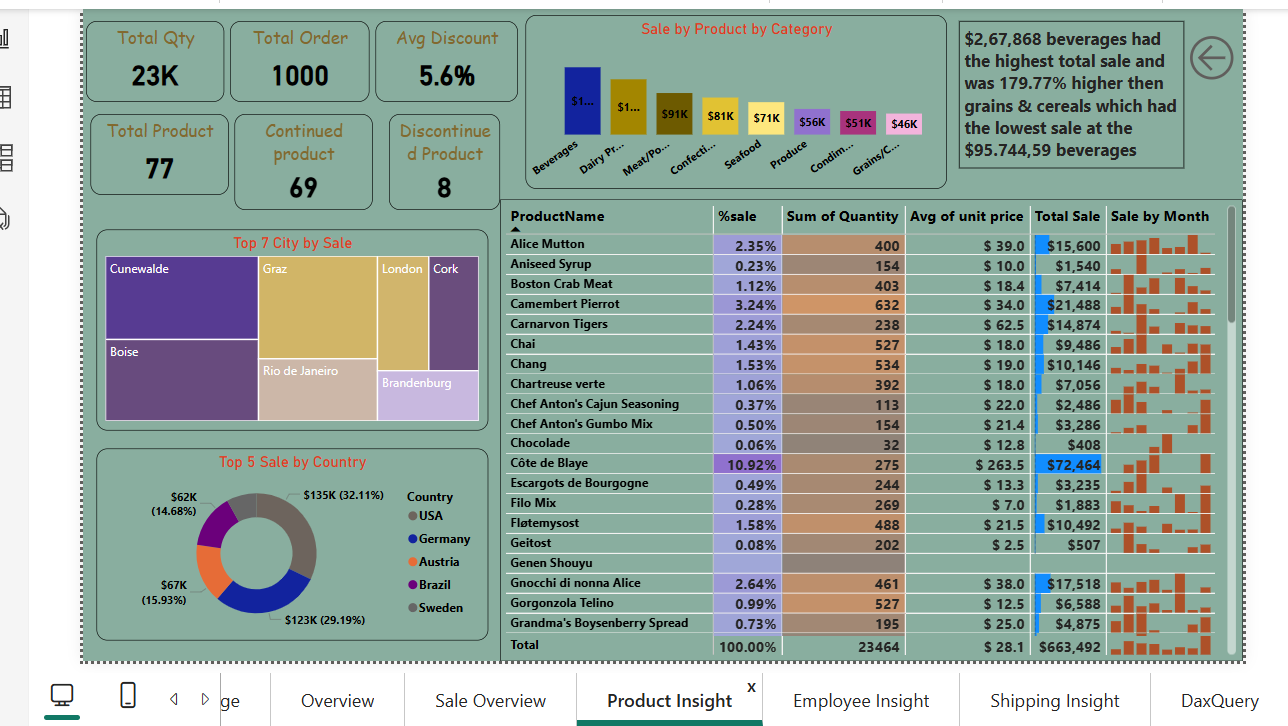

The page's visual inventory and layout, read from the dashboard file:
{"tool":"powerbi","page":{"name":"Product Insight","canvas":[1280,720],"ordinal":3},"visuals":[{"type":"card","title":"Total Qty","fields":{"Values":["Sum(power_bi orders.Quantity)"]},"box":[3.3,13.3,152.4,89.4],"z":0},{"type":"card","title":"Total Order","fields":{"Values":["power_bi orders.Total Orders"]},"box":[162.3,13.3,154.1,89.4],"z":1000},{"type":"card","title":"Avg Discount","fields":{"Values":["power_bi orders.Avg of Discount"]},"box":[323,13.3,157.4,89.4],"z":2000},{"type":"card","title":"Total Product","fields":{"Values":["power_bi products.Total Product"]},"box":[8.3,116,152.4,89.4],"z":3000},{"type":"columnChart","title":"Sale by Product by Category","fields":{"Category":["power_bi categories.CategoryName"],"Y":["Sum(power_bi orders.Total_Amount)"]},"box":[488.7,6.6,465.5,192.2],"z":4000},{"type":"pivotTable","fields":{"Rows":["power_bi products.ProductName"],"Values":["power_bi orders.%sale","Sum(power_bi orders.Quantity)","power_bi orders.Avg of unit price","Sum(power_bi orders.Total_Amount)","SparklineData(Sum(power_bi orders.Total_Amount)_[power_bi calendar.Month Name])"]},"box":[460.5,210.4,820,510.2],"z":5000},{"type":"donutChart","title":"Top 5 Sale by Country","fields":{"Category":["power_bi customers.Country"],"Y":["Sum(power_bi orders.Total_Amount)"]},"box":[14.9,485.3,432.3,212],"z":6000},{"type":"treemap","title":"Top 7 City by Sale","fields":{"Group":["power_bi customers.City"],"Values":["Sum(power_bi orders.Total_Amount)"]},"box":[14.9,243.5,432.3,222],"z":7000},{"type":"card","title":"Discontinued Product","fields":{"Values":["power_bi products.Count Product"]},"box":[337.9,116,122.6,106],"z":8000},{"type":"card","title":"Continued product","fields":{"Values":["power_bi products.Continued"]},"box":[167.3,116,152.4,106],"z":9000},{"type":"textbox","box":[967.4,13.3,248.5,162.3],"z":10000},{"type":"actionButton","box":[1215.9,13.3,61.3,81.2],"z":11000}]}

Visuals, with their boxes on the page's 1280x720 design canvas (x1, y1, x2, y2). These are canvas units, not pixel positions in the 1288x726 screenshot, which may show the page scaled, cropped or inside an application window:
"Total Qty" card: BBox(3, 13, 156, 103)
"Total Order" card: BBox(162, 13, 316, 103)
"Avg Discount" card: BBox(323, 13, 480, 103)
"Total Product" card: BBox(8, 116, 161, 205)
"Sale by Product by Category" columnChart: BBox(489, 7, 954, 199)
pivotTable - power_bi products.ProductName x power_bi orders.%sale: BBox(460, 210, 1280, 721)
"Top 5 Sale by Country" donutChart: BBox(15, 485, 447, 697)
"Top 7 City by Sale" treemap: BBox(15, 244, 447, 466)
"Discontinued Product" card: BBox(338, 116, 460, 222)
"Continued product" card: BBox(167, 116, 320, 222)
textbox: BBox(967, 13, 1216, 176)
actionButton: BBox(1216, 13, 1277, 94)
